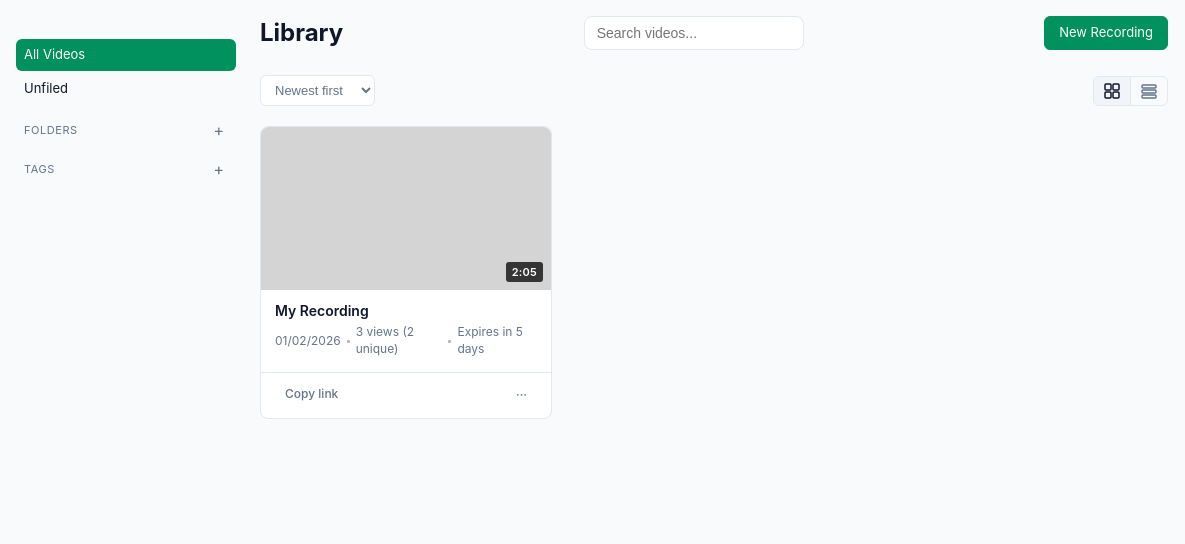
Library › closes overflow menu on Escape
The width and height of the screenshot is (1185, 544).
Click the button named "More actions".
click(522, 395)  # box [506, 382, 537, 408]
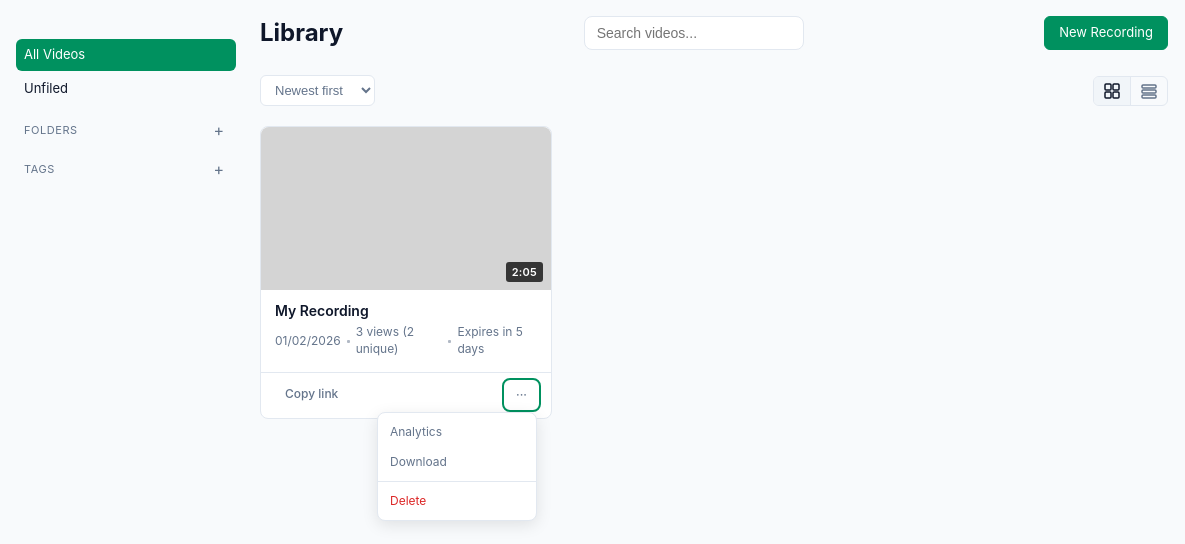
Now the button "Download" is shown, box [378, 447, 536, 477]
Press Escape
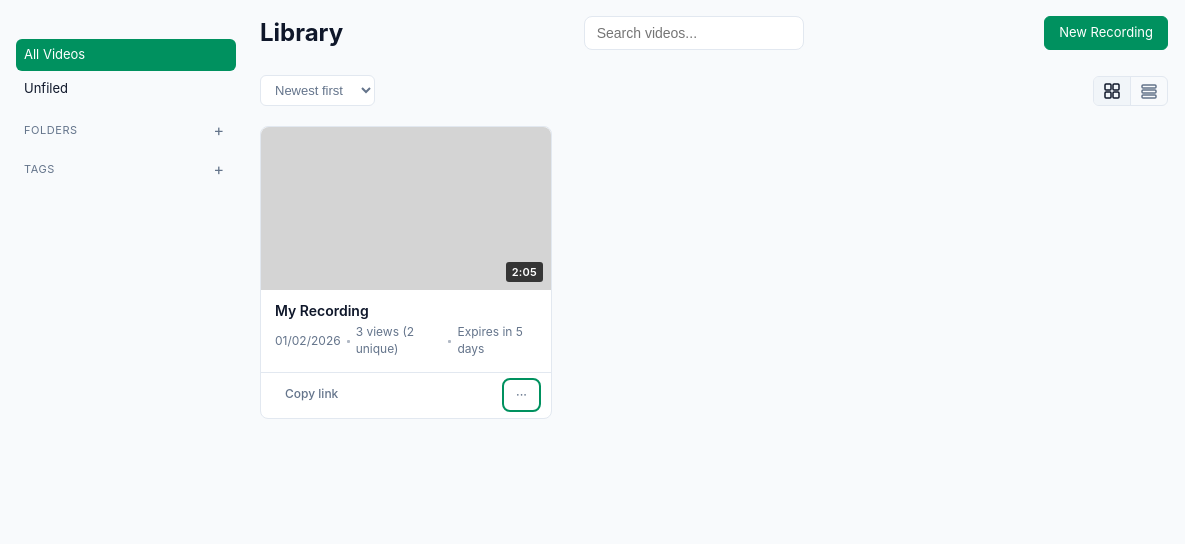
Now the button "Download" is gone
